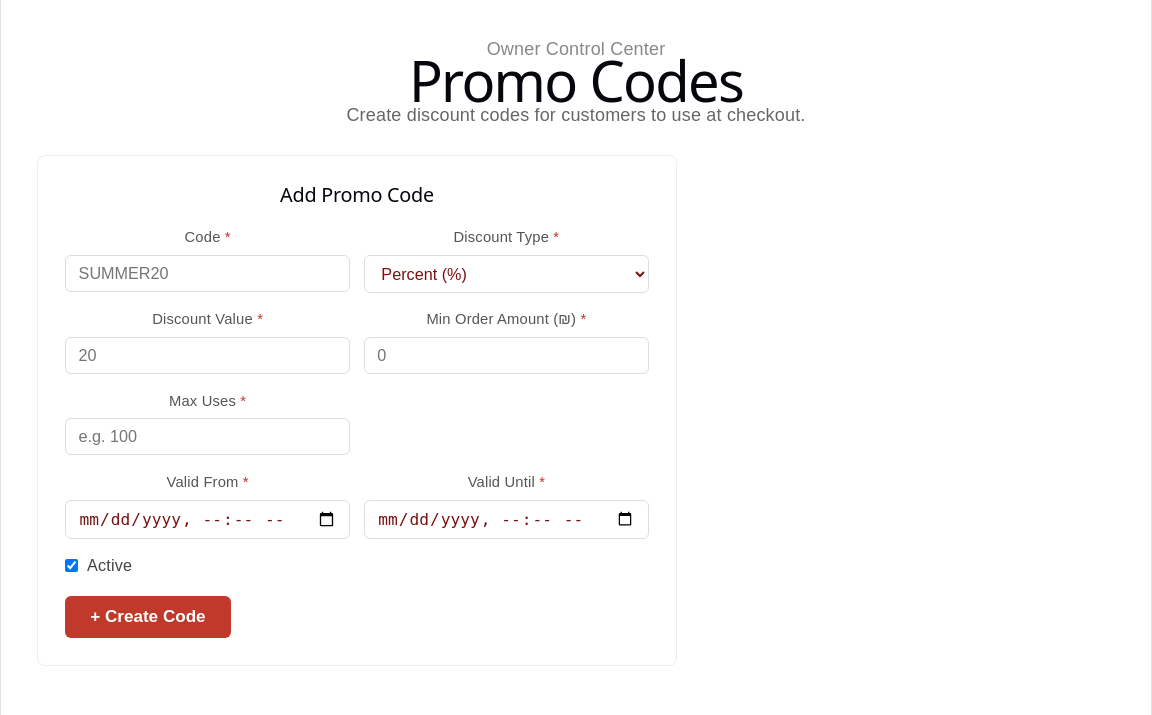
Test case: OwnerPromoCodes › shows validation error listing missing fields when form submitted empty
Click the button "+ Create Code": (148, 617) [65,596,231,638]
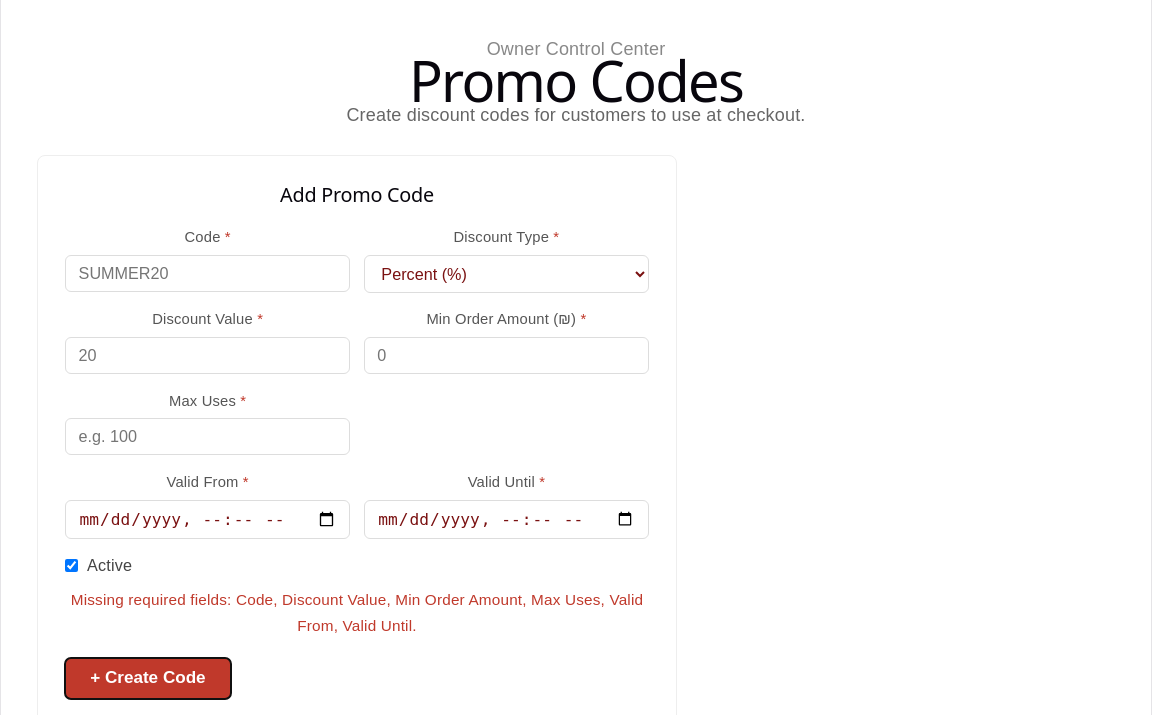
Expected: the text "Missing required fields" is shown, [71,591,643,634]
